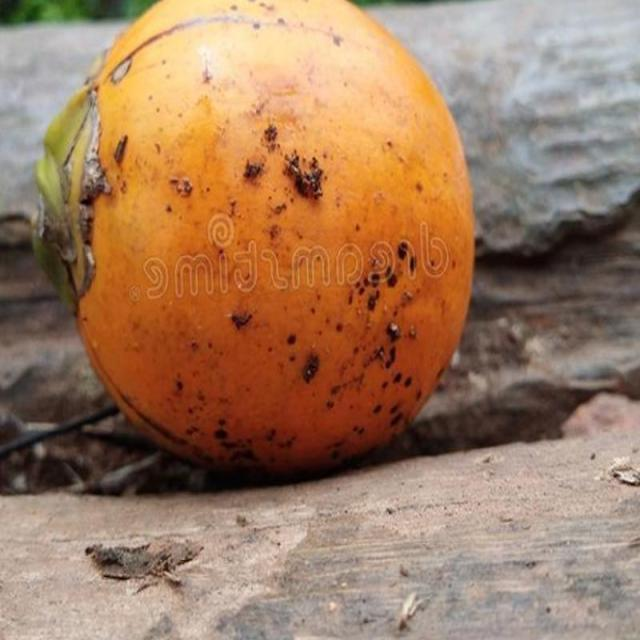good: (32, 0, 476, 485)
